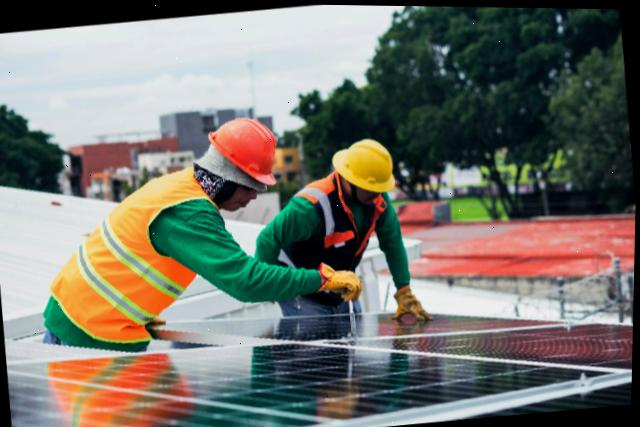helmet: (205, 107, 283, 189), (333, 135, 402, 205)
vest: (51, 166, 226, 343), (276, 170, 386, 319)
